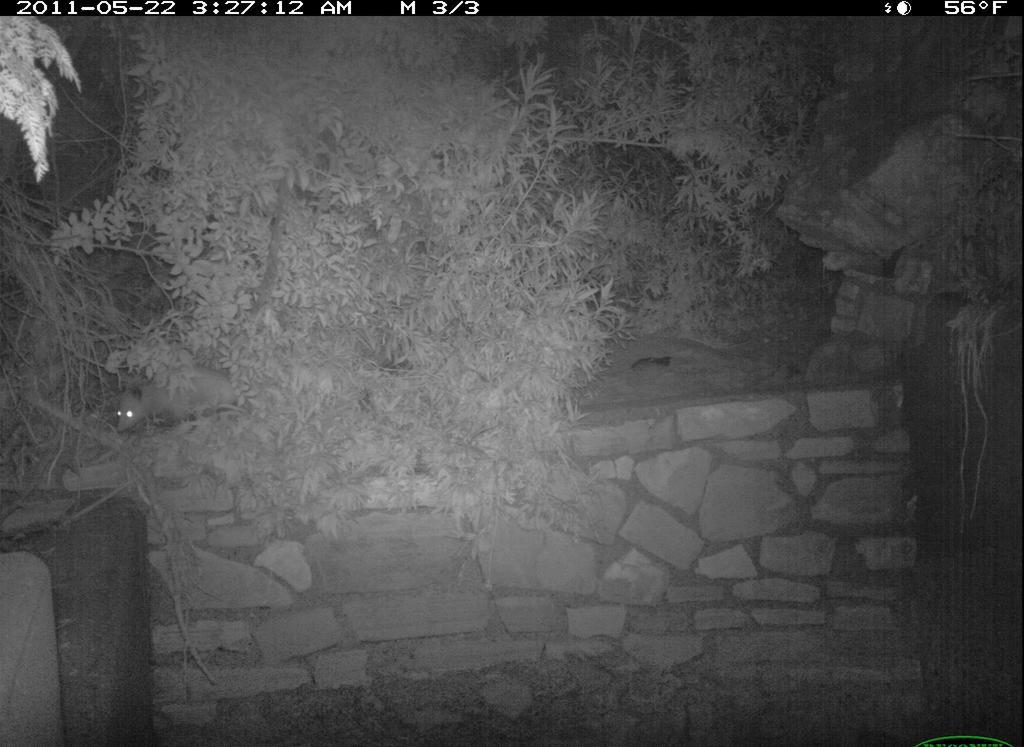opossum: (113, 360, 255, 439)
